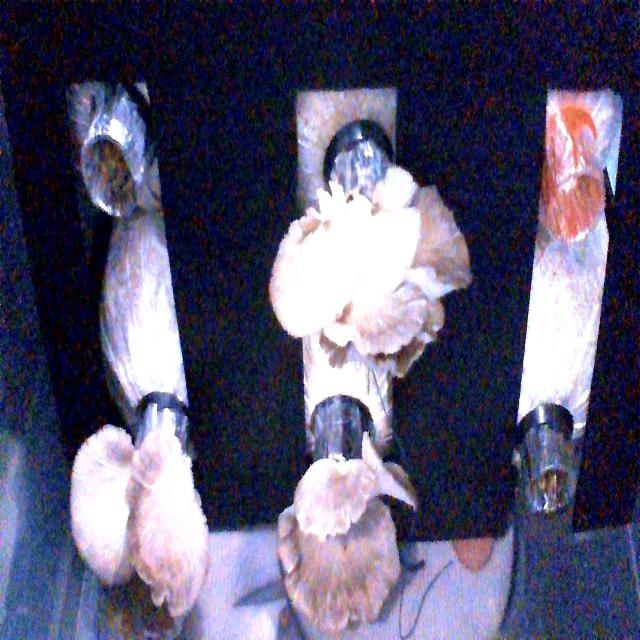big: (276, 143, 466, 378), (277, 431, 428, 632), (75, 420, 211, 634)
nfound: (72, 122, 154, 229), (548, 141, 604, 264), (520, 442, 577, 536)
